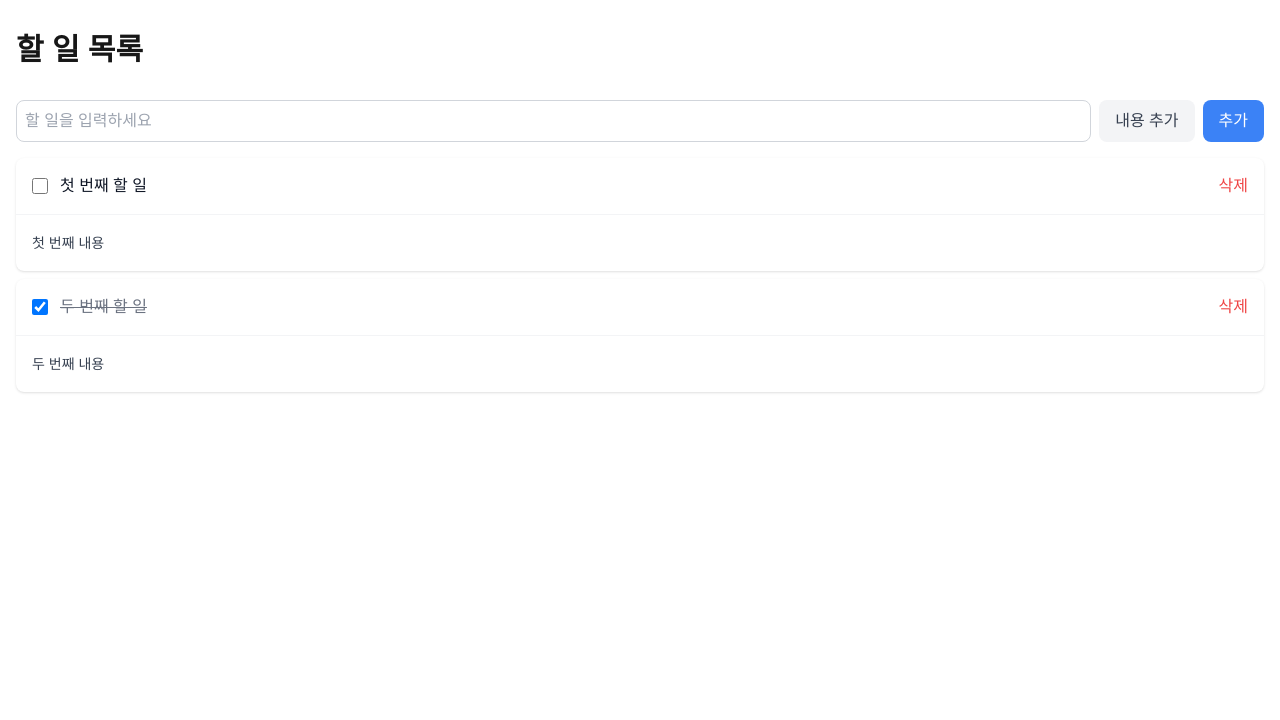
Test: Page 컴포넌트 › 할 일 추가 › 새로운 할 일을 추가할 수 있어야 함
Type "새로운 할 일" into the field with placeholder "할 일을 입력하세요" at (554, 121), box [16,100,1091,142]
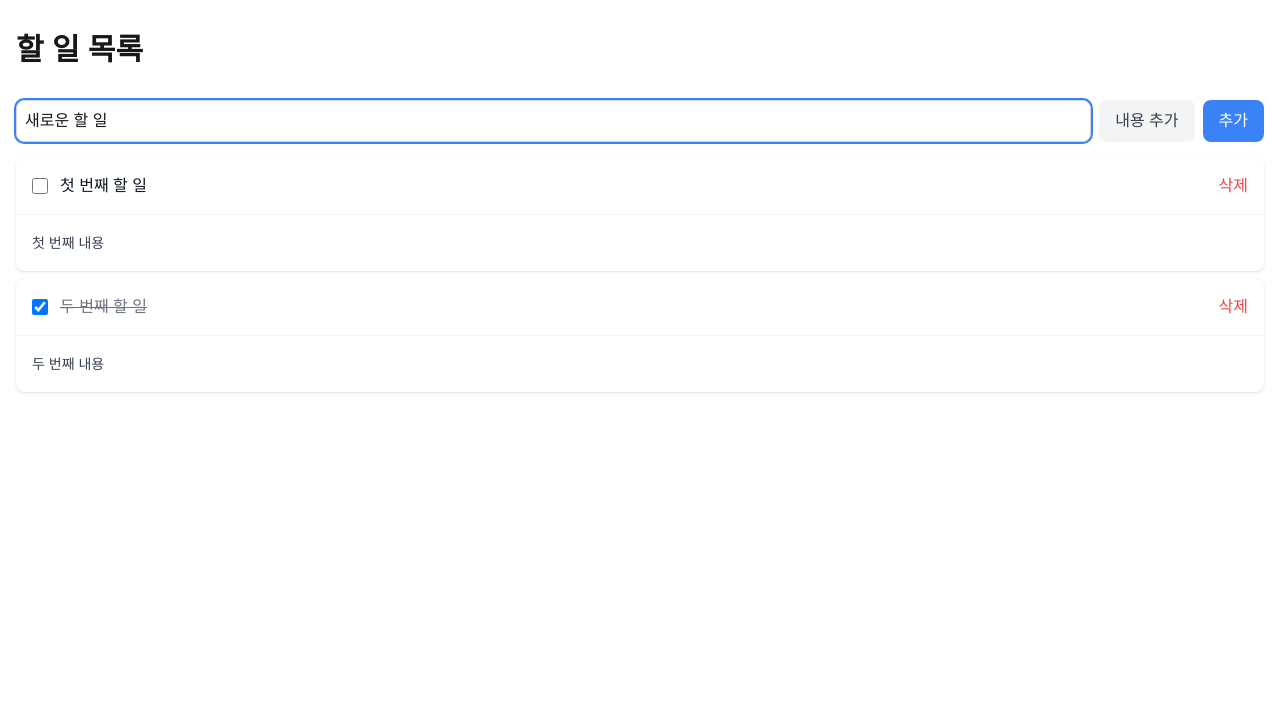
Click the button "추가" at (1233, 121), box [1202,100,1264,142]
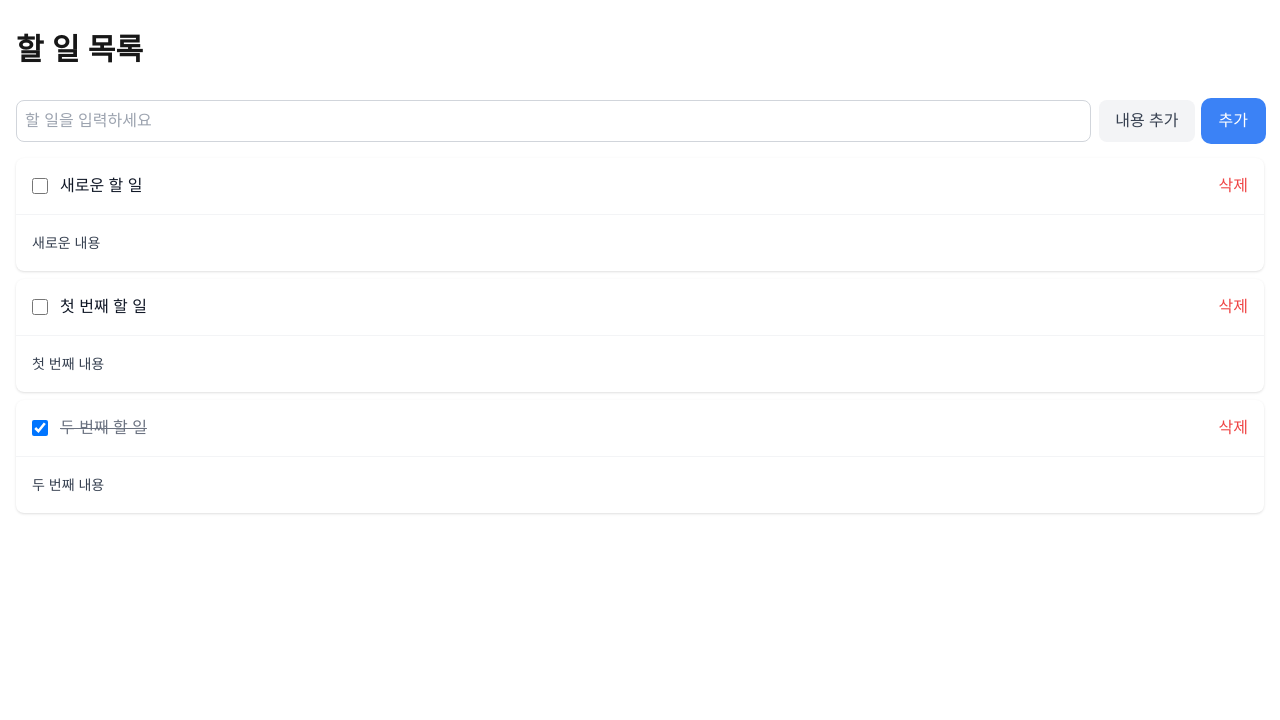
Result: the text "새로운 할 일" is shown at [60,174,142,198]
Result: the text "새로운 내용" is shown at [32,235,100,251]
